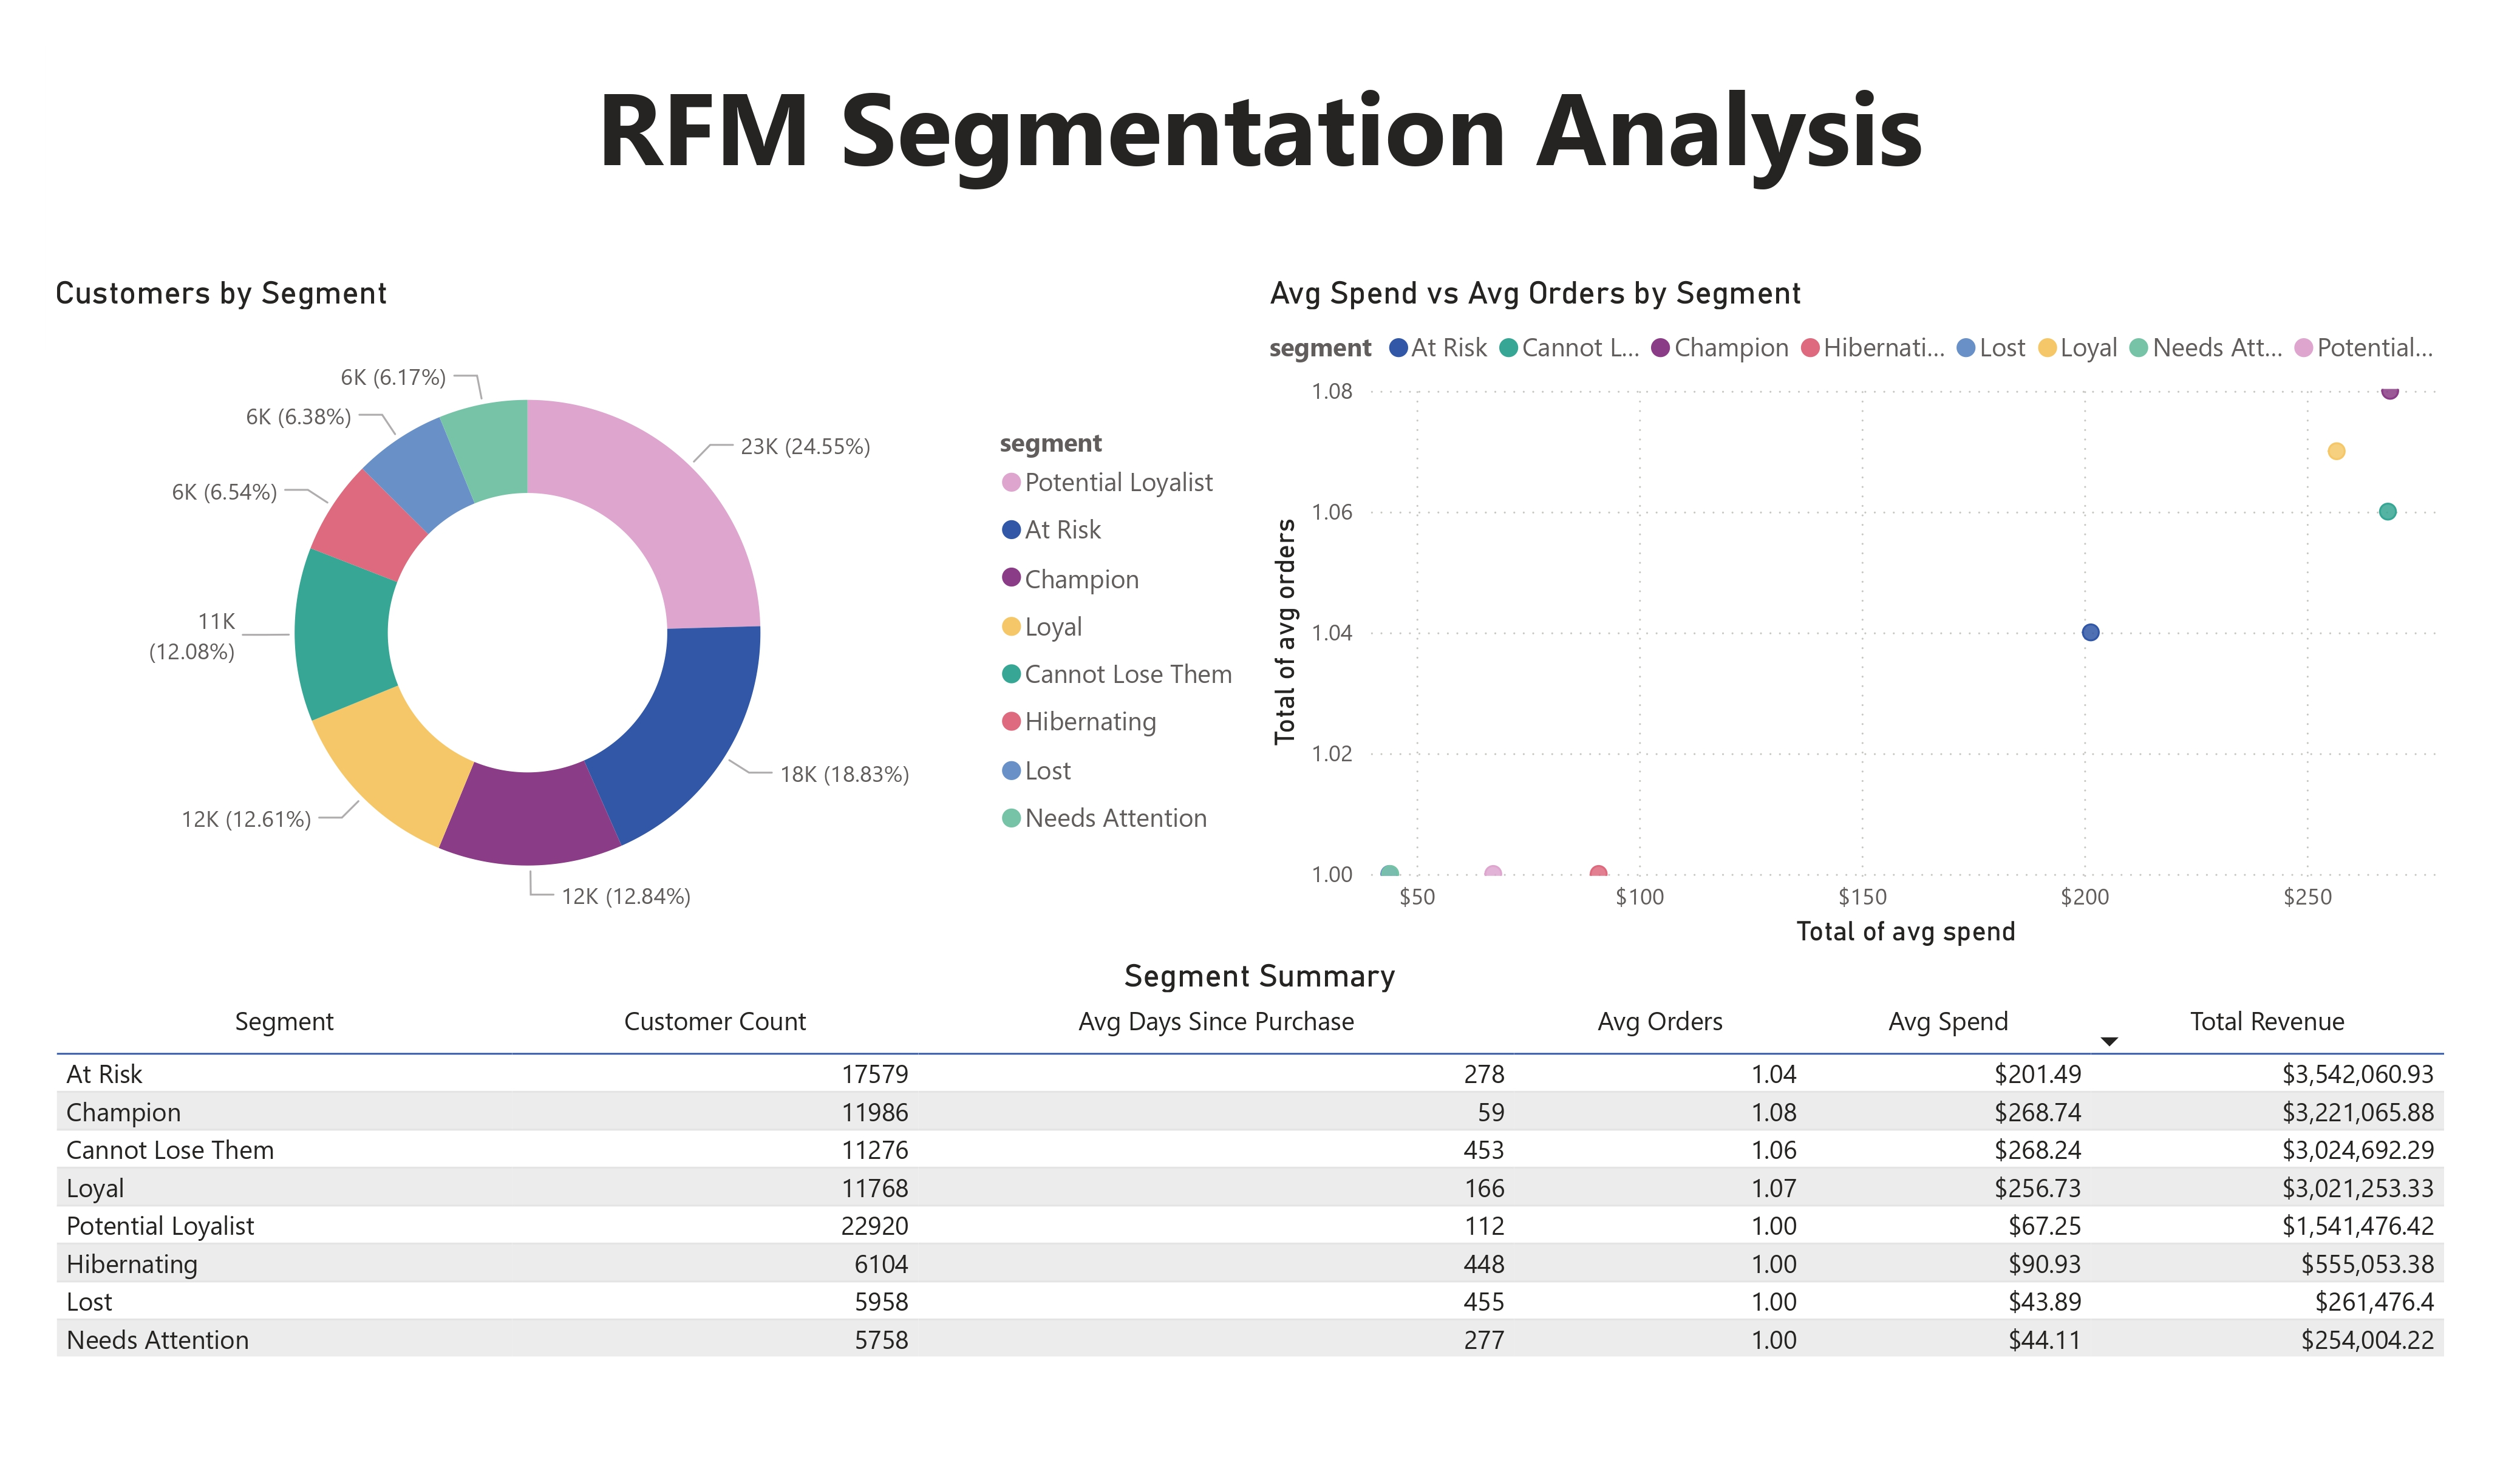

What the dashboard file says about the page in this screenshot:
{"tool":"powerbi","page":{"name":"RFM segmentation","canvas":[1280,720],"ordinal":1},"visuals":[{"type":"textbox","box":[0,0,1280,128],"z":0},{"type":"donutChart","title":"Customers by Segment","fields":{"Category":["rfm_segments.segment"],"Y":["Sum(rfm_segments.customer_count)"]},"box":[0,120,640,360],"z":1000},{"type":"scatterChart","title":"Avg Spend vs Avg Orders by Segment","fields":{"X":["Avg(rfm_segments.avg_spend)"],"Y":["Avg(rfm_segments.avg_orders)"],"Category":["rfm_segments.segment"],"Series":["rfm_segments.segment"]},"box":[640,120,640,360],"z":2000},{"type":"tableEx","title":"Segment Summary","fields":{"Values":["rfm_segments.segment","Sum(rfm_segments.customer_count)","Sum(rfm_segments.avg_recency_days)","Sum(rfm_segments.avg_orders)","Sum(rfm_segments.avg_spend)","Sum(rfm_segments.total_revenue)"]},"box":[0,480,1280,240],"z":3000}]}

Visuals, with their boxes on the page's 1280x720 design canvas (x1, y1, x2, y2). These are canvas units, not pixel positions in the 2520x1457 screenshot, which may show the page scaled, cropped or inside an application window:
textbox: [x1=0, y1=0, x2=1280, y2=128]
"Customers by Segment" donutChart: [x1=0, y1=120, x2=640, y2=480]
"Avg Spend vs Avg Orders by Segment" scatterChart: [x1=640, y1=120, x2=1280, y2=480]
"Segment Summary" tableEx: [x1=0, y1=480, x2=1280, y2=720]
